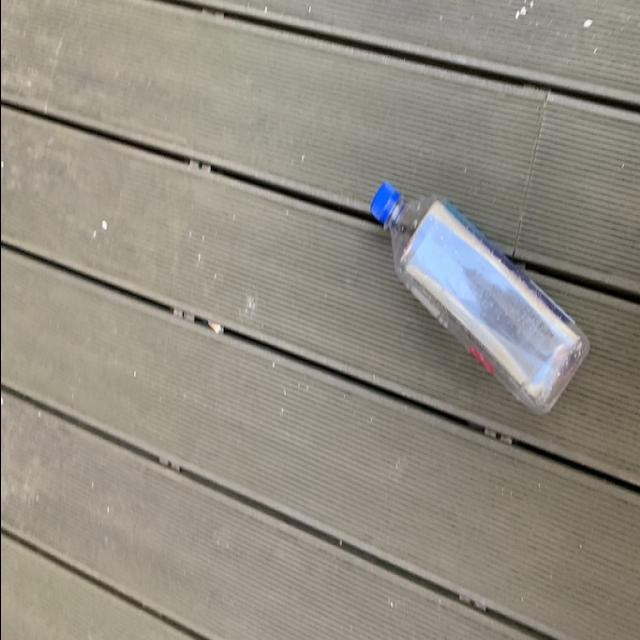PET: (358, 181, 586, 421)
